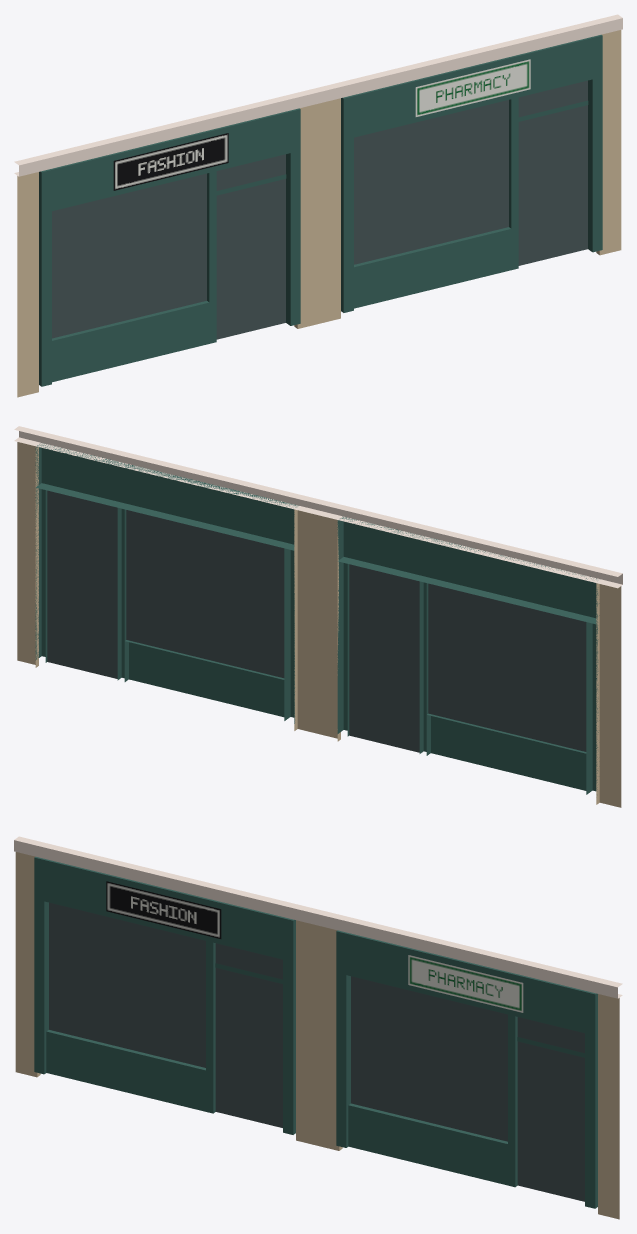
3 views of the same model, one above another, from view 1: azimuth 30°, elevation 25°; view 2: azimuth 150°, elevation 25°; view 3: azimuth 330°, elevation 25° (orthographic).
Visible parts, largest first — view 1: a2006/500/base-w3; view 2: a2006/500/base-w3; view 3: a2006/500/base-w3.
Part boxes in pixels (x1=…): a2006/500/base-w3: x1=14, y1=14, x2=622, y2=397; a2006/500/base-w3: x1=14, y1=426, x2=622, y2=807; a2006/500/base-w3: x1=14, y1=836, x2=622, y2=1219.
Size of the model in its own units: 8.4 by 3.1 by 0.151.
